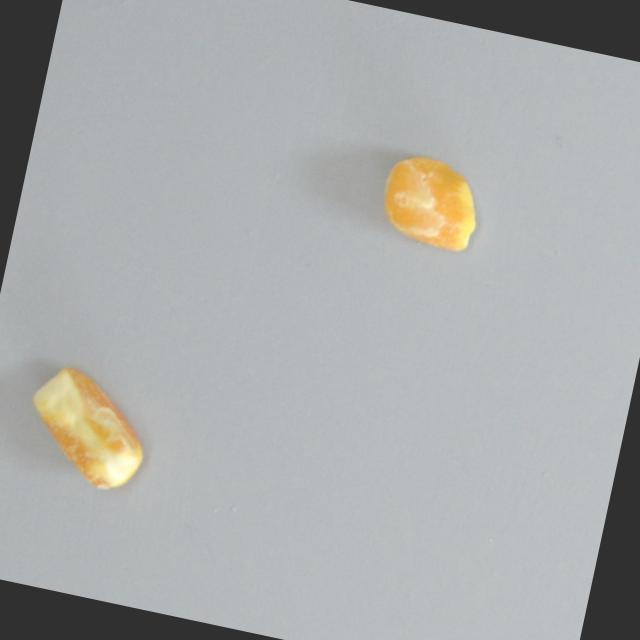pelicula: (16, 356, 160, 496), (371, 144, 488, 257)
